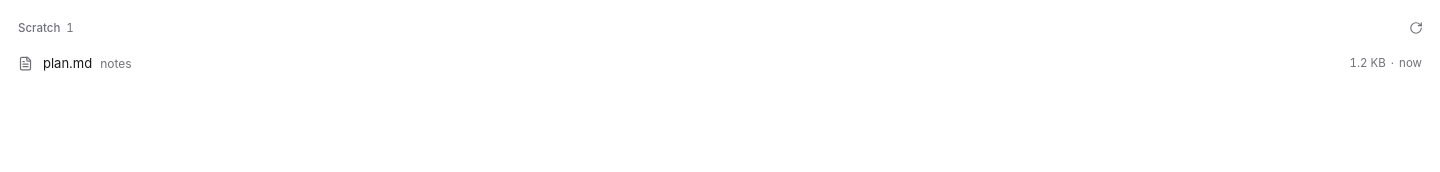
Files page › renders markdown, shows its numbered source, and returns focus to the row
The width and height of the screenshot is (1440, 172).
Later steps or results of the test are not shown.
Click the button "plan.md notes 1.2 KB · now": (68, 63) [8, 46, 1432, 80]
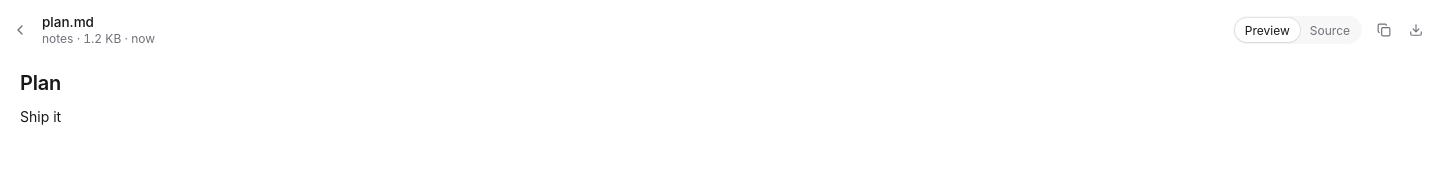
Expected: the heading "Plan" is shown, [20, 71, 61, 95]
Expected: the text "notes · 1.2 KB · now" is shown, [42, 31, 155, 46]
